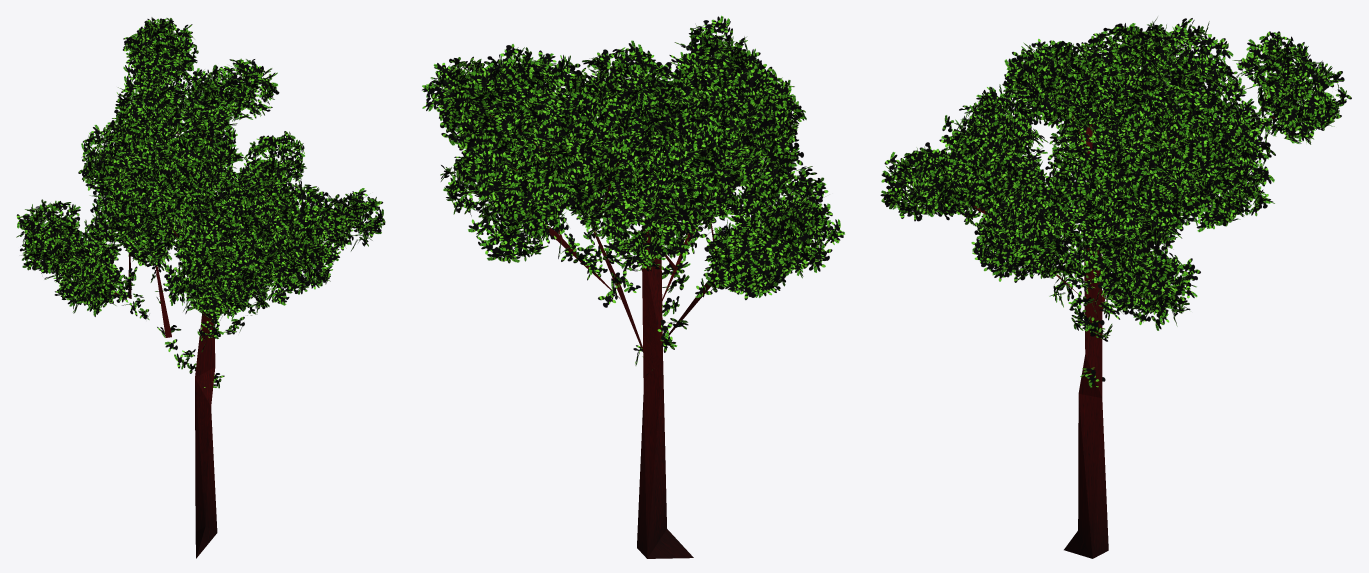
The model's file is emergent_fig_v01_LOD1.glb.
3 renders of one model, left to right at view 1: azimuth 30°, elevation 25°; view 2: azimuth 150°, elevation 25°; view 3: azimuth 270°, elevation 25°, orthographic. The views are drawn at different scales.
Parts seen in each view (by area): view 1: emergent_fig_v01_LOD1; view 2: emergent_fig_v01_LOD1; view 3: emergent_fig_v01_LOD1.
Part boxes in pixels (x1,y1,x2,y2): emergent_fig_v01_LOD1: [16, 17, 385, 558]; emergent_fig_v01_LOD1: [422, 15, 844, 558]; emergent_fig_v01_LOD1: [880, 17, 1351, 558].
Size of the model in its own units: 29.08 by 42.26 by 33.3.
2 materials, 2 textured.
